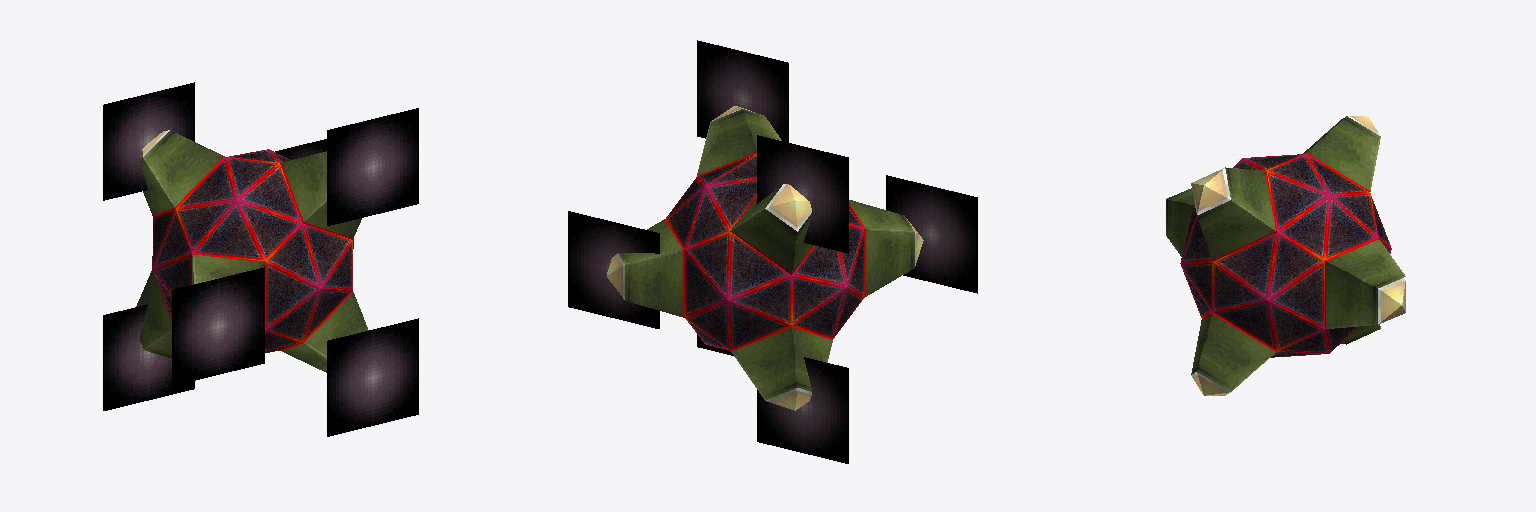
3 renders of one model, left to right at view 1: azimuth 30°, elevation 25°; view 2: azimuth 150°, elevation 25°; view 3: azimuth 270°, elevation 25°, orthographic.
Visible parts, largest first — view 1: polygon0, polygon3, polygon4, polygon2, polygon5, polygon6, polygon7; view 2: polygon0, polygon3, polygon5, polygon7, polygon2, polygon6, polygon1; view 3: polygon0, polygon1.
Part boxes in pixels (x1,y1,x2,y2): polygon0: (136,130,368,372); polygon3: (172,267,264,385); polygon4: (327,318,418,436); polygon2: (327,108,418,225); polygon5: (103,82,194,200); polygon6: (103,304,194,410); polygon7: (275,139,326,159); polygon0: (618,109,914,399); polygon3: (886,175,977,293); polygon5: (757,135,848,253); polygon7: (568,211,659,328); polygon2: (697,40,788,142); polygon6: (757,357,848,463); polygon1: (607,106,923,410); polygon0: (1166,116,1405,391); polygon1: (1191,116,1405,395).
Size of the model in its own units: 14.45 by 14.45 by 10.77.
Materials: 3 (1 with a texture image).